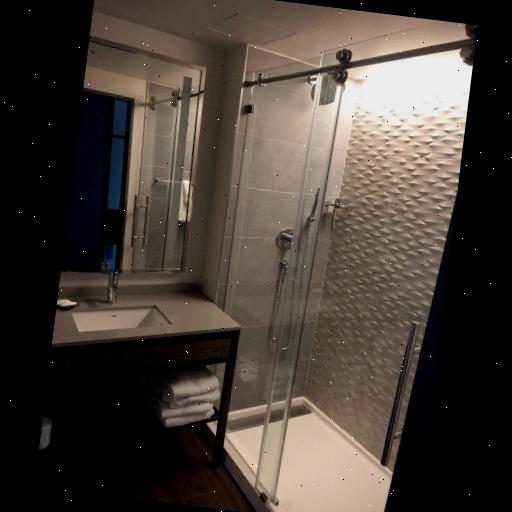clean mirror: (44, 49, 210, 291)
clean shower: (198, 20, 468, 512)
clean_sink: (43, 264, 243, 376)
folded_towel: (134, 361, 221, 437)
